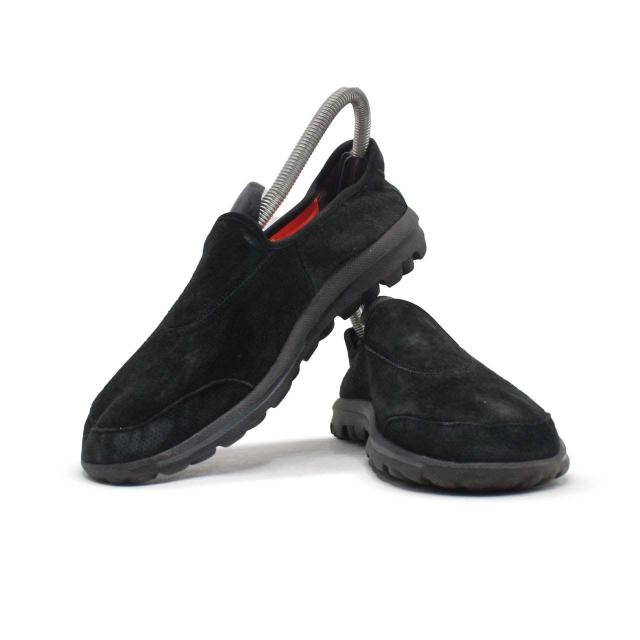heel: (333, 134, 407, 242)
midsole: (86, 210, 427, 485), (324, 399, 566, 495)
uppersole: (81, 198, 371, 463), (358, 301, 561, 462)
